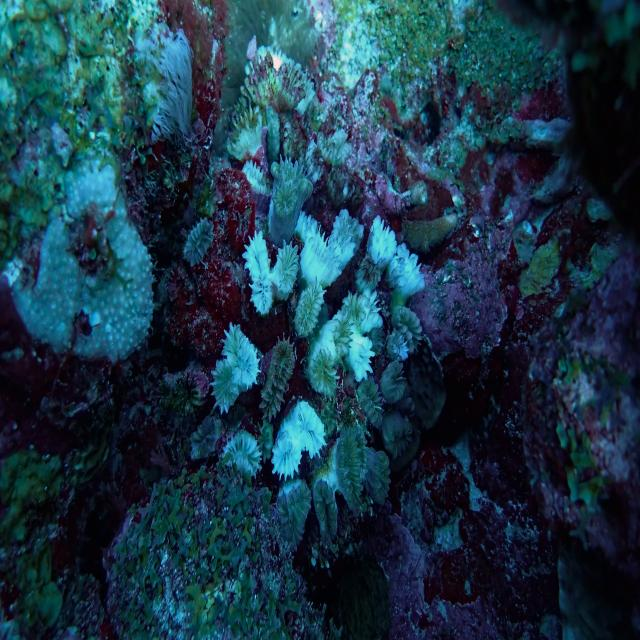Coral: (184, 46, 458, 554), (0, 0, 192, 363)
